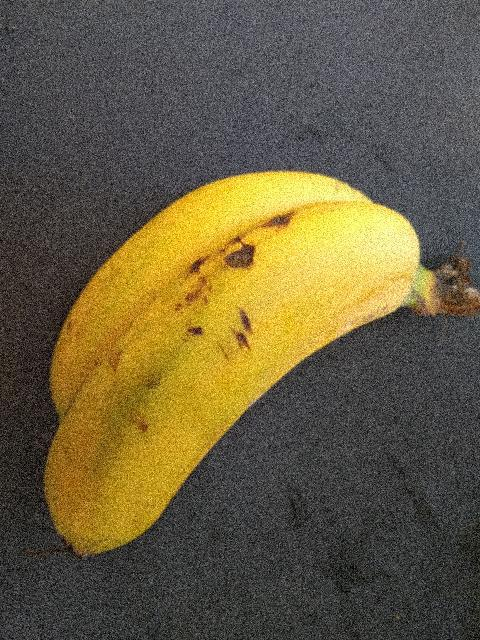ripe: (30, 208, 421, 575)
